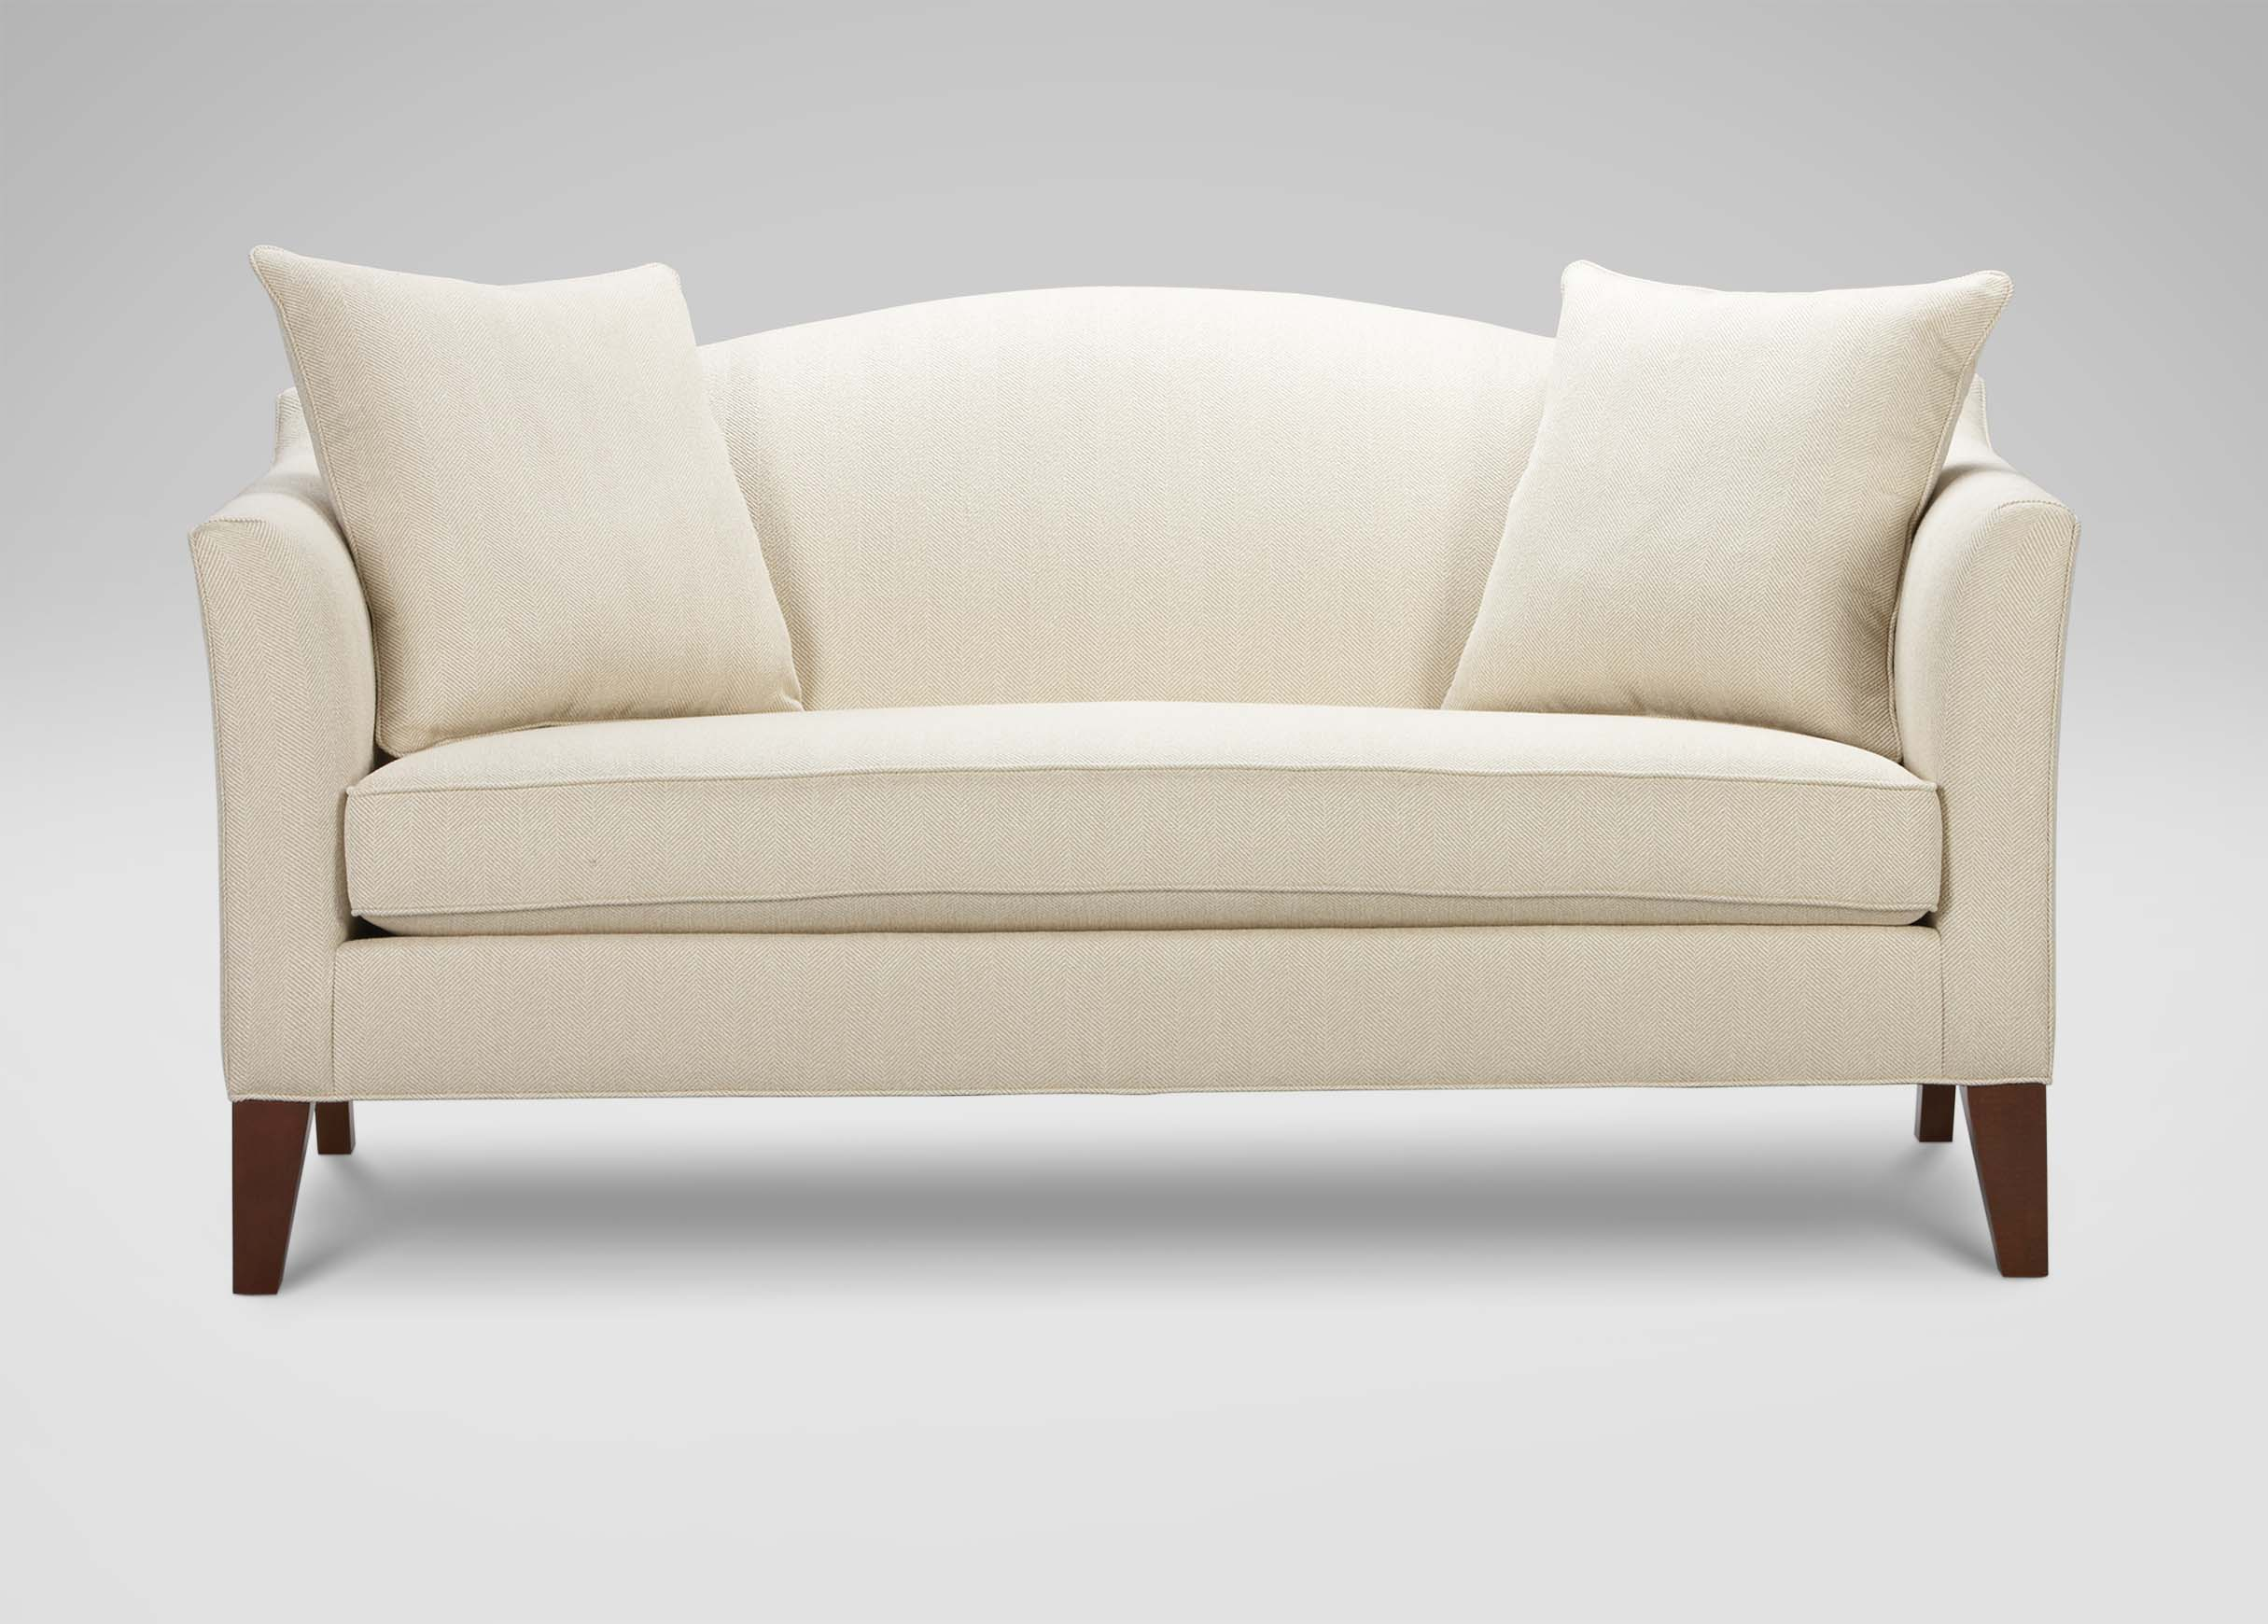chairs: (142, 218, 2101, 1306)
